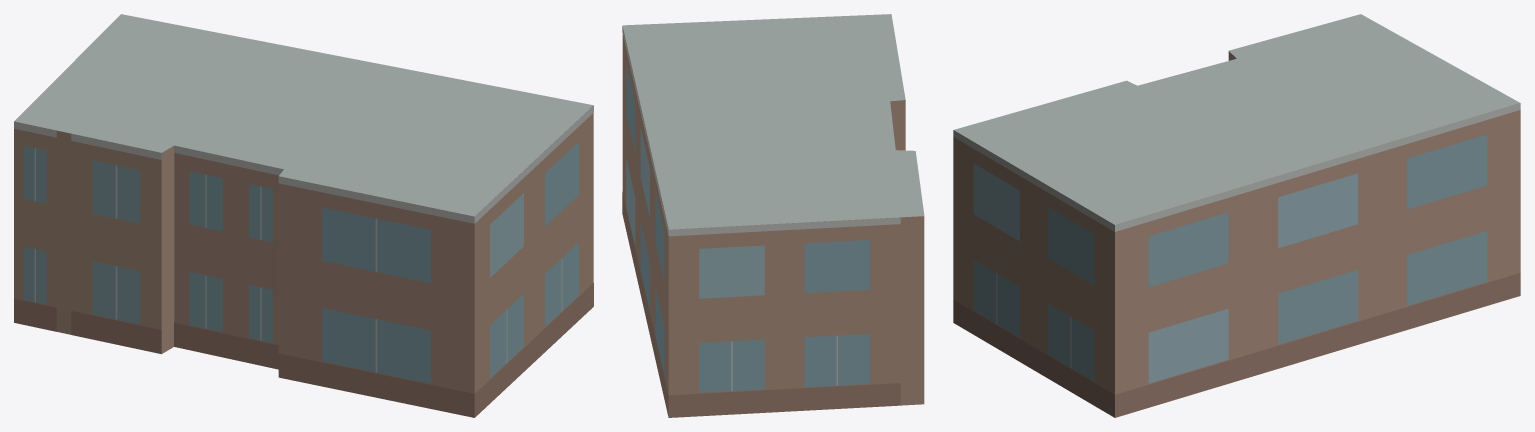
File: survey-upis-32639792.glb
3 renders of one model, left to right at view 1: azimuth 30°, elevation 25°; view 2: azimuth 150°, elevation 25°; view 3: azimuth 270°, elevation 25°, orthographic. The views are drawn at different scales.
Parts seen in each view (by area): view 1: survey-upis-32639792.tmp; view 2: survey-upis-32639792.tmp; view 3: survey-upis-32639792.tmp.
Boxes of the visible parts, <box> form: survey-upis-32639792.tmp: <box>14,14,593,417</box>; survey-upis-32639792.tmp: <box>622,14,924,417</box>; survey-upis-32639792.tmp: <box>953,14,1520,417</box>.
Size of the model in its own units: 15.97 by 6.8 by 18.13.
